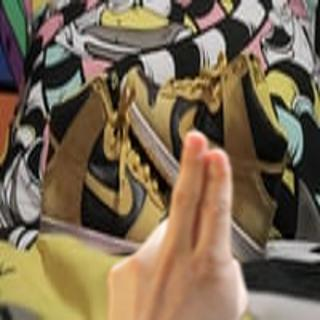DHAVE: (92, 118, 251, 320)
